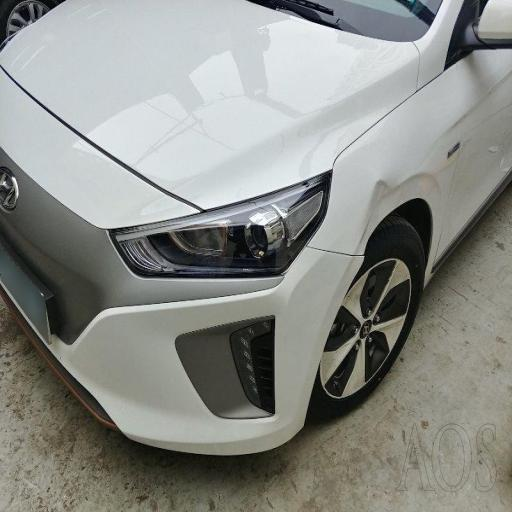dent: (308, 118, 471, 332)
